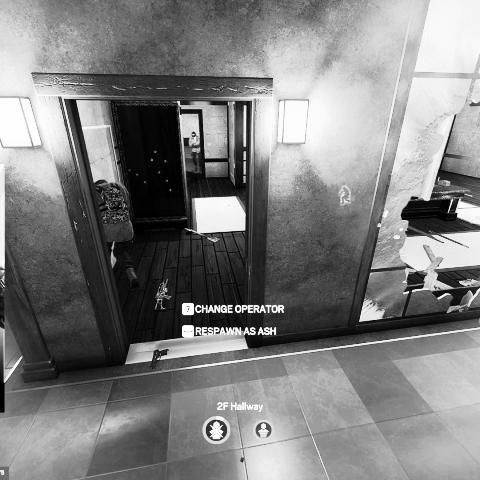Character: (97, 178, 141, 292), (188, 130, 202, 170)
Head: (96, 179, 110, 186), (191, 132, 196, 138)
